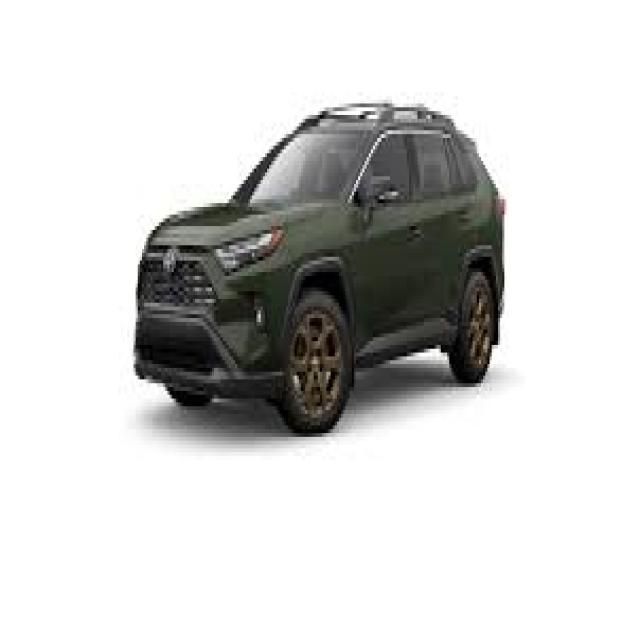light_vehicle: (132, 102, 506, 435)
